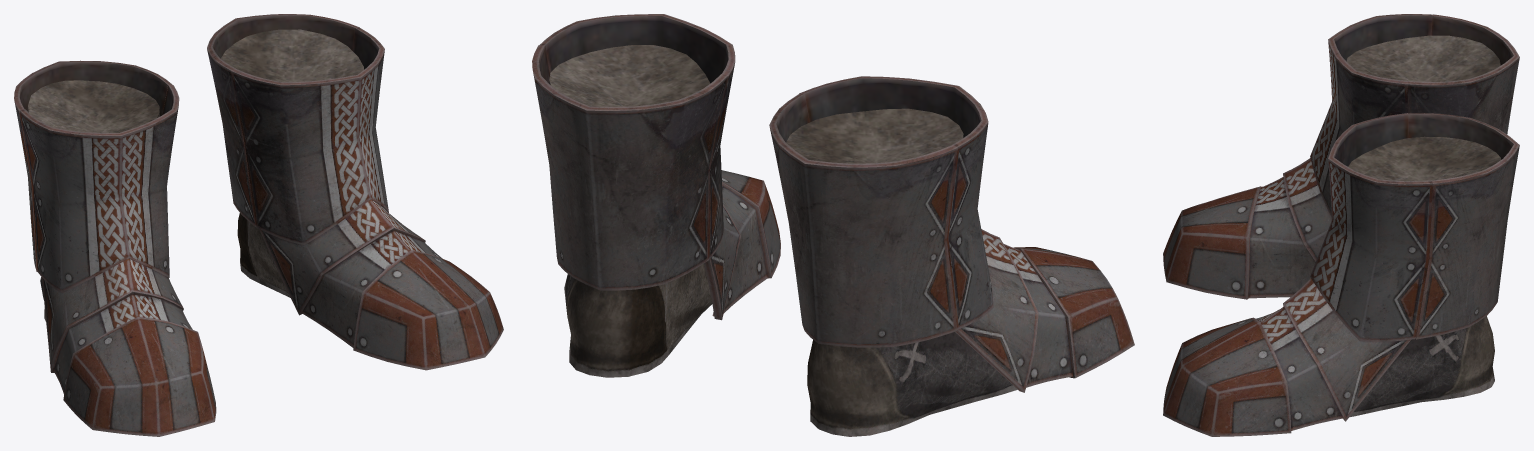
File: sk_dwarf_iron_boots_elite_c2.fbx
3 renders of one model, left to right at view 1: azimuth 30°, elevation 25°; view 2: azimuth 150°, elevation 25°; view 3: azimuth 270°, elevation 25°, orthographic. The views are drawn at different scales.
Visible parts, largest first — view 1: sk_dwarf_iron_boots_elite_c2; view 2: sk_dwarf_iron_boots_elite_c2; view 3: sk_dwarf_iron_boots_elite_c2.
Part boxes in pixels (<box>): sk_dwarf_iron_boots_elite_c2: <box>14,14,503,436</box>; sk_dwarf_iron_boots_elite_c2: <box>532,14,1134,436</box>; sk_dwarf_iron_boots_elite_c2: <box>1163,14,1519,436</box>.
Size of the model in its own units: 0.5801 by 0.4277 by 0.3159.
1 material, 1 textured.
